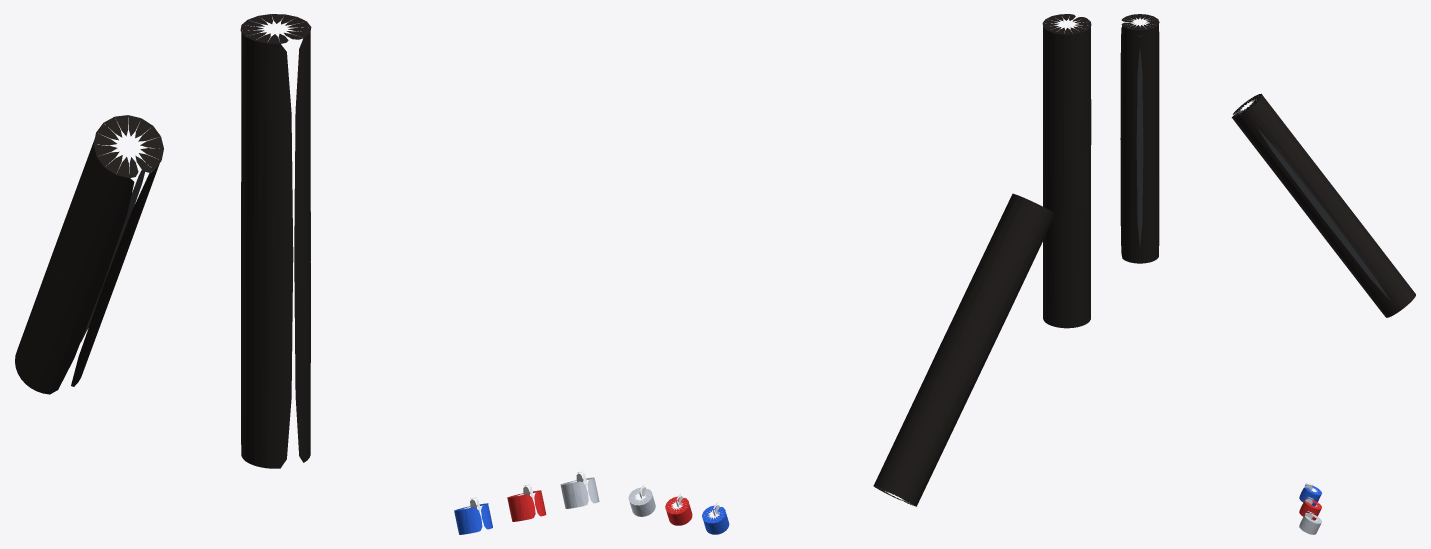
The model's file is rollcage_padding_dials.glb.
The picture shows the model from 3 angles, left to right: view 1: azimuth 30°, elevation 25°; view 2: azimuth 150°, elevation 25°; view 3: azimuth 270°, elevation 25°; orthographic projection. The views are drawn at different scales.
Parts seen in each view (by area): view 1: Roll_Cage_Padding_Console_Dials_Assembly; view 2: Roll_Cage_Padding_Console_Dials_Assembly; view 3: Roll_Cage_Padding_Console_Dials_Assembly.
Part boxes in pixels (box(x1,y1,x2,y2)): Roll_Cage_Padding_Console_Dials_Assembly: box(15, 14, 599, 534); Roll_Cage_Padding_Console_Dials_Assembly: box(628, 14, 1091, 534); Roll_Cage_Padding_Console_Dials_Assembly: box(1120, 14, 1415, 534).
Bounding box in the file's own units: 0.574 × 0.6983 × 0.483.
